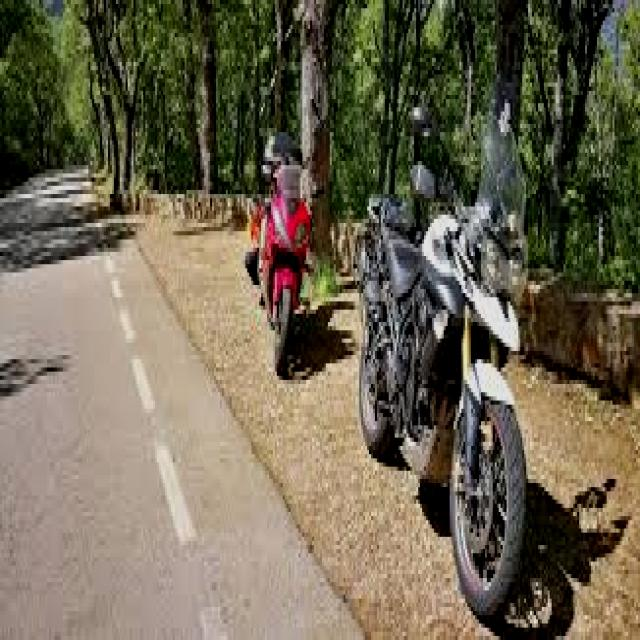MOTORCYCLE: (364, 214, 516, 623), (256, 171, 310, 377)
